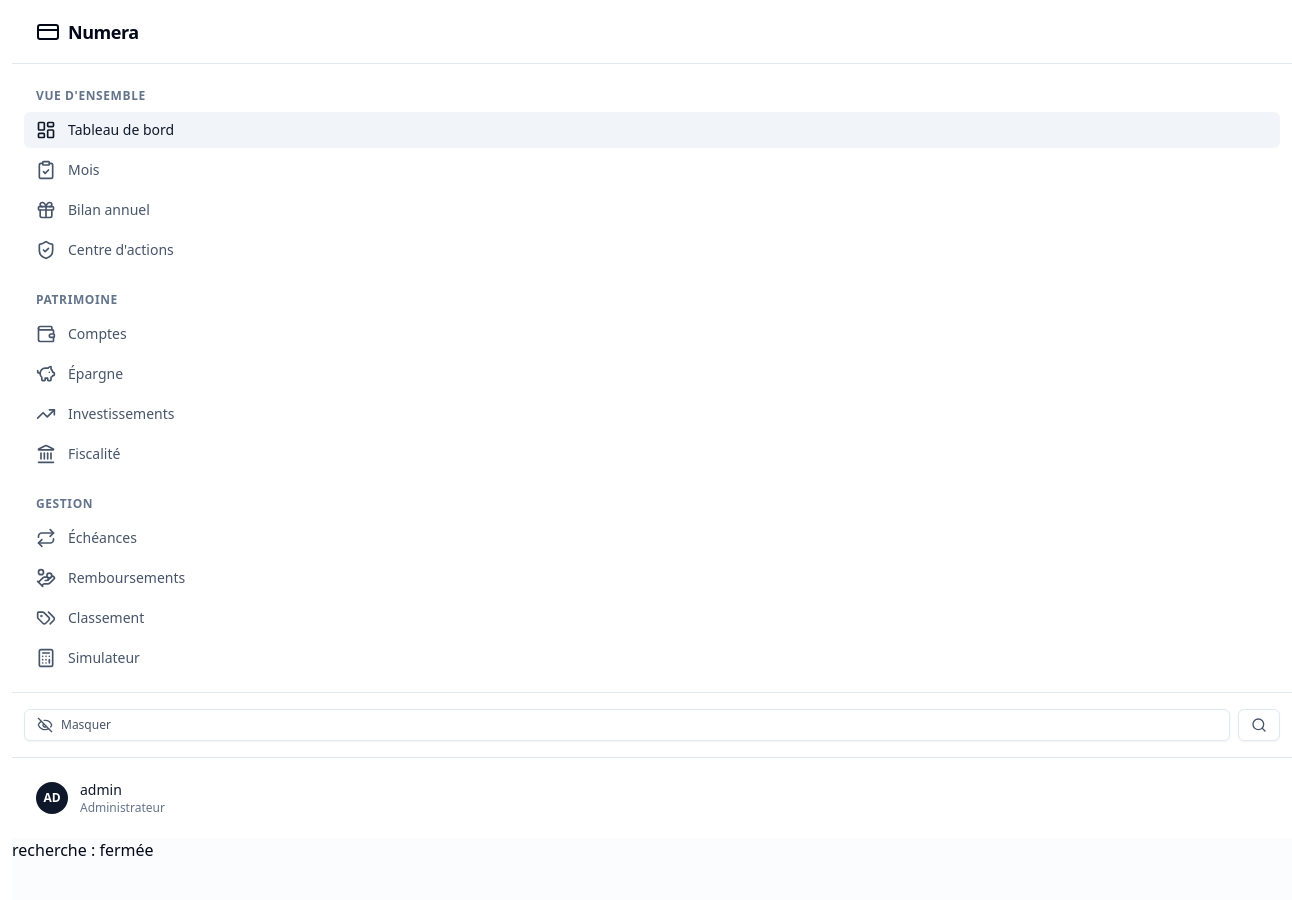
Sidebar › le bouton « Rechercher » ouvre l'omnibox
The width and height of the screenshot is (1292, 900).
Step 1. Click the button named "Rechercher" → (1259, 725), box [1238, 709, 1280, 741]
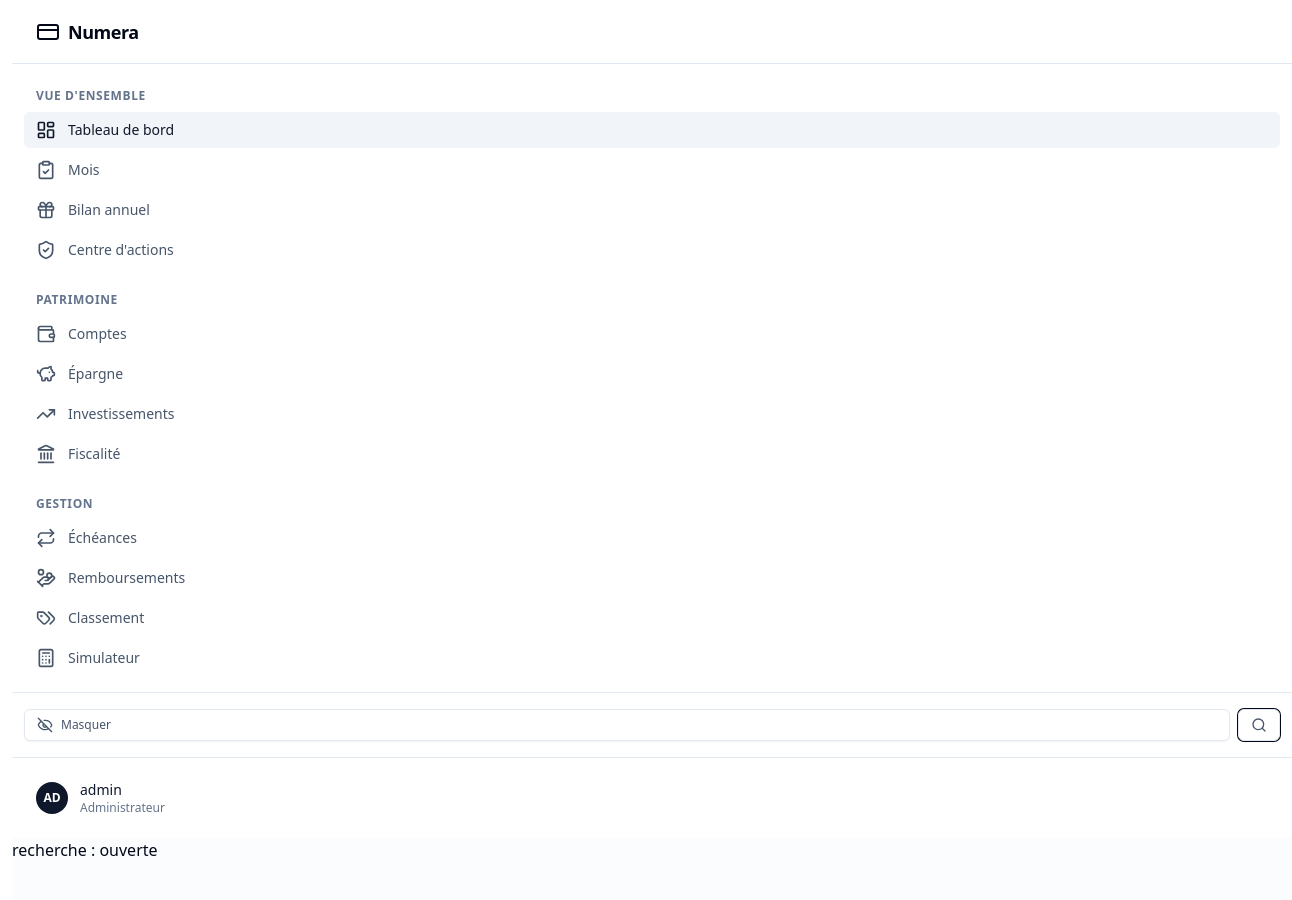
Check: the text "recherche : ouverte" is shown, box [12, 839, 158, 861]
